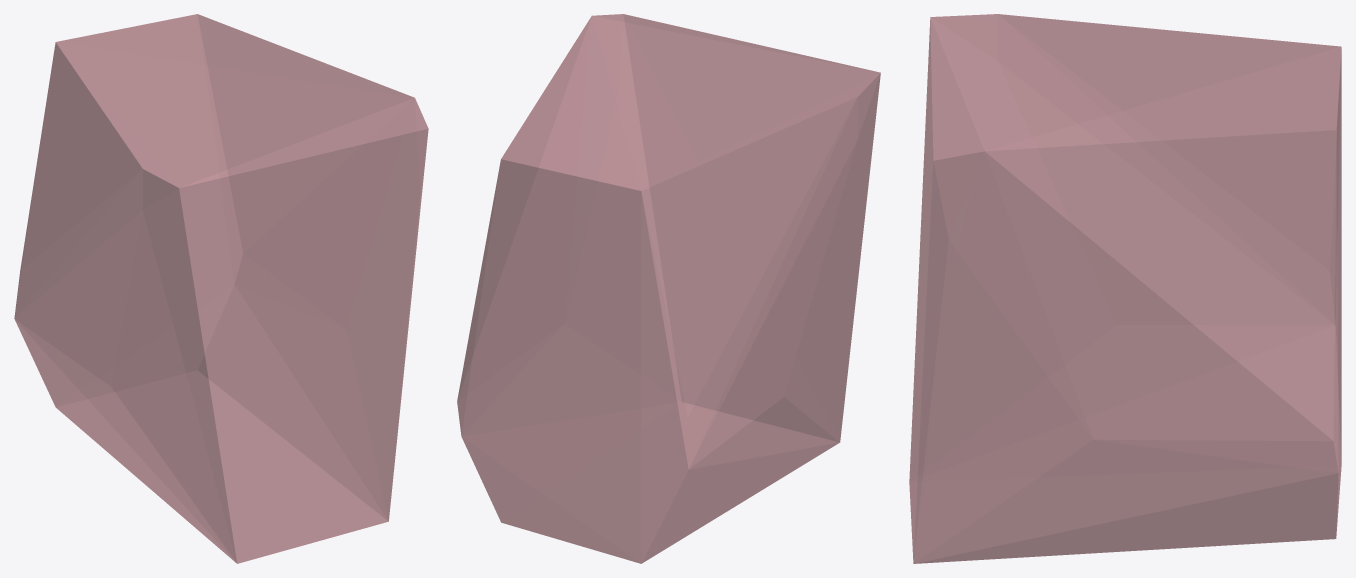
3 renders of one model, left to right at view 1: azimuth 30°, elevation 25°; view 2: azimuth 150°, elevation 25°; view 3: azimuth 270°, elevation 25°, orthographic. The views are drawn at different scales.
Parts seen in each view (by area): view 1: Shape_IndexedFaceSet.004_Shape_IndexedFaceSet.3342; view 2: Shape_IndexedFaceSet.004_Shape_IndexedFaceSet.3342; view 3: Shape_IndexedFaceSet.004_Shape_IndexedFaceSet.3342.
Boxes of the visible parts, left/top/right/bottom form: Shape_IndexedFaceSet.004_Shape_IndexedFaceSet.3342: left=14, top=14, right=428, bottom=563; Shape_IndexedFaceSet.004_Shape_IndexedFaceSet.3342: left=457, top=14, right=880, bottom=563; Shape_IndexedFaceSet.004_Shape_IndexedFaceSet.3342: left=909, top=14, right=1341, bottom=563.
Bounding box in the file's own units: 0.2238 × 0.3137 × 0.2739.
